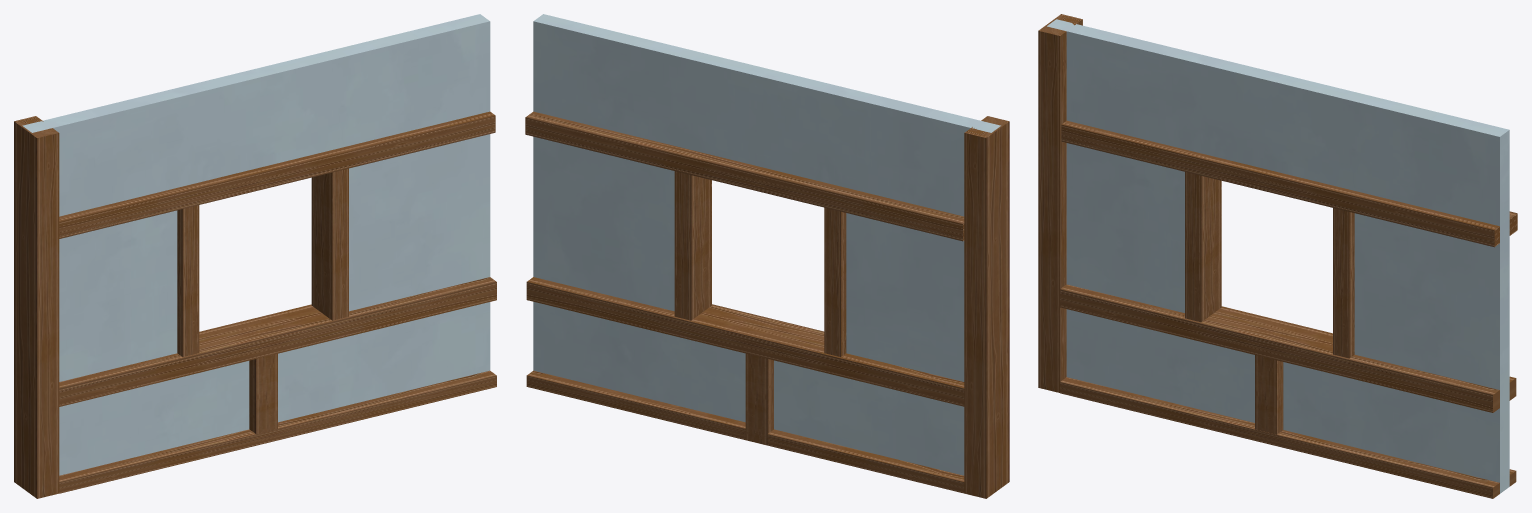
Rendered from SM_Window_Wall_02_wblue.glb.
3 renders of one model, left to right at view 1: azimuth 30°, elevation 25°; view 2: azimuth 150°, elevation 25°; view 3: azimuth 330°, elevation 25°, orthographic.
Parts seen in each view (by area): view 1: SM_Window_Wall_02; view 2: SM_Window_Wall_02; view 3: SM_Window_Wall_02.
Part boxes in pixels (box(x1,y1,x2,y2)): SM_Window_Wall_02: box(14, 14, 496, 498); SM_Window_Wall_02: box(525, 14, 1009, 498); SM_Window_Wall_02: box(1038, 14, 1517, 498).
Size of the model in its own units: 4 by 3 by 0.3736.
2 materials, 2 textured.
